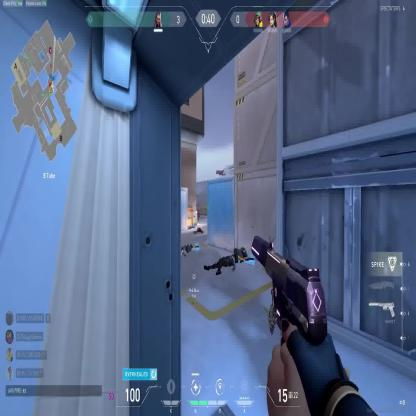enemy: (196, 204, 200, 221)
enemy_head: (198, 205, 200, 208)
